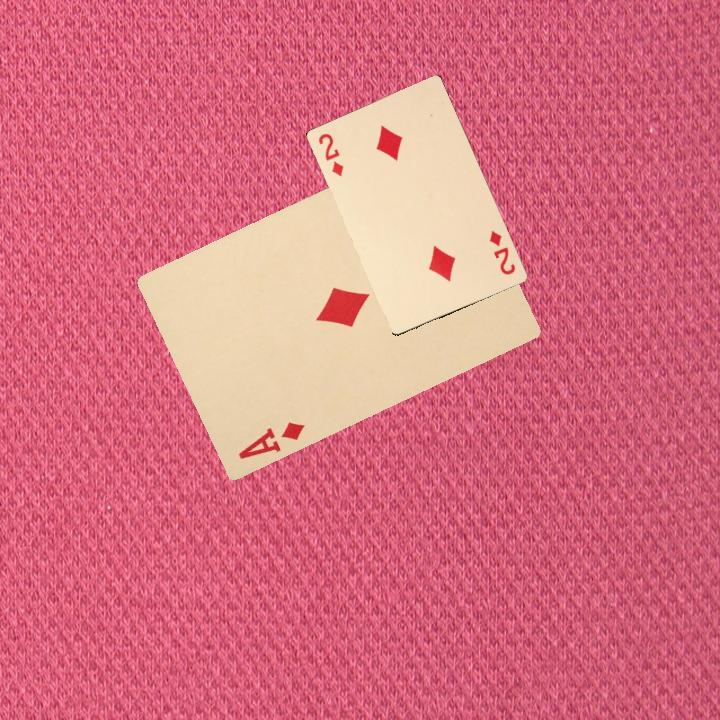2d: (485, 227, 518, 277), (314, 129, 346, 179)
Ad: (234, 417, 307, 462)
